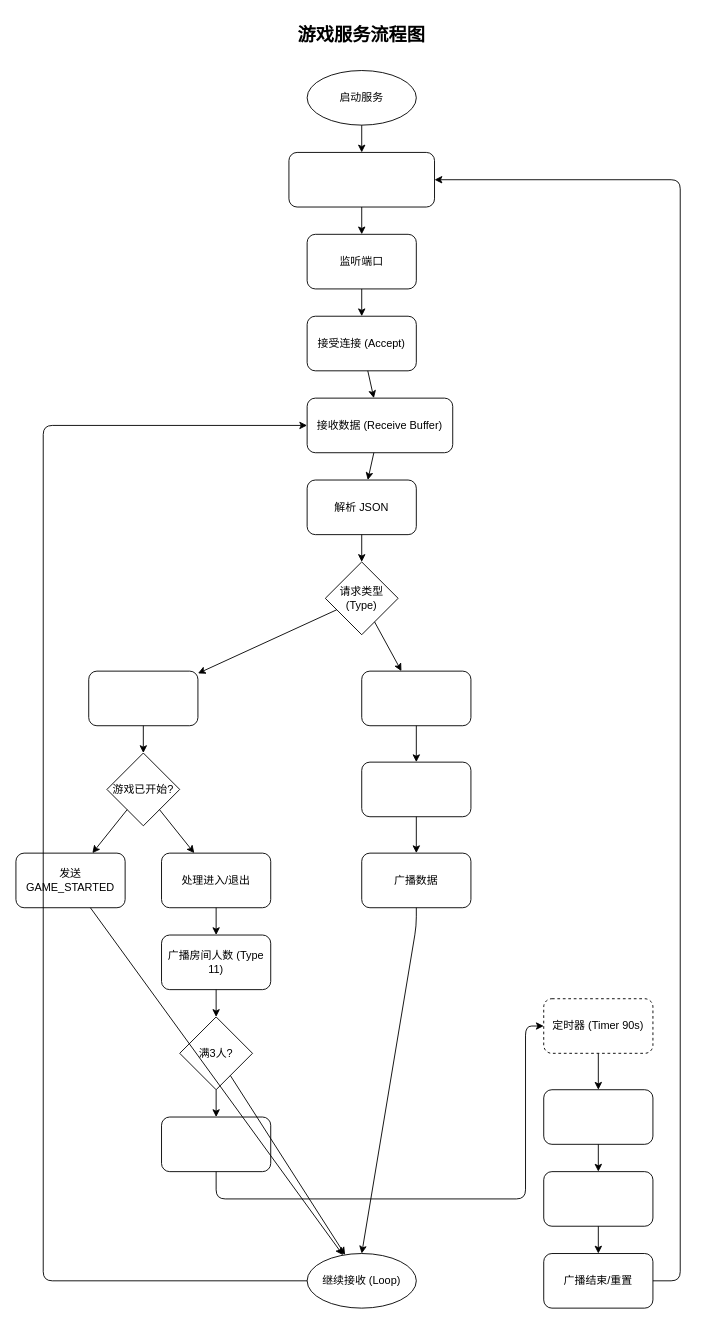
Some shapes in this 703 by 1324 pixel diagram are drawn without their labels. The centre of each missing label's shape, as x and y in pixels:
Type 0: 房间/连接: (143,698)
Type 2/4: 分数/状态: (416,698)
保存分数 (DB): (598,1198)
开始游戏/倒计时: (216,1144)
时间到 (Time Up): (598,1116)
更新分数: (416,789)
重置游戏状态 (Reset): (361,179)
